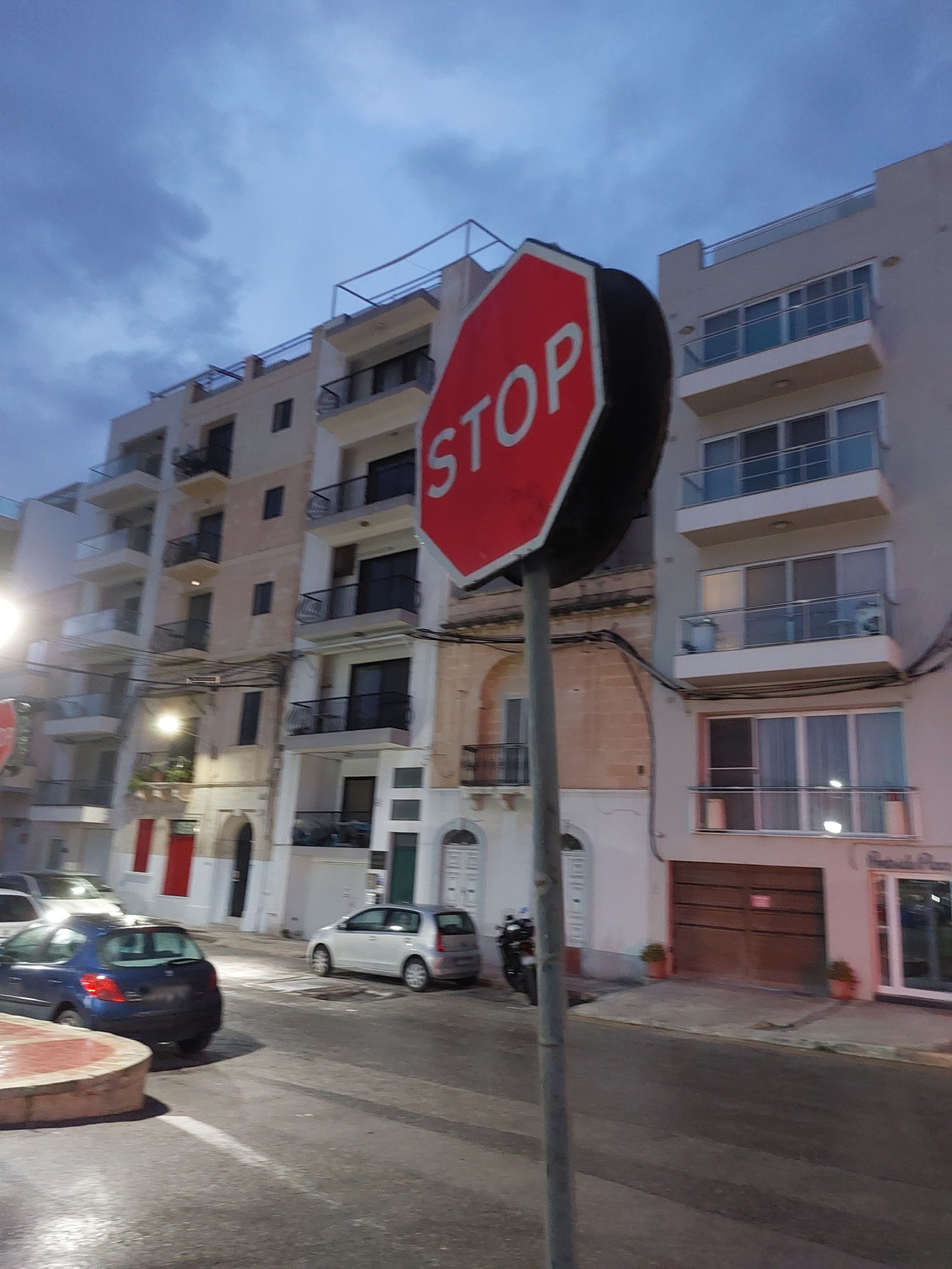Back-Unknown: (503, 267, 672, 591)
Stop Sign: (414, 237, 606, 592), (0, 699, 16, 769)
Tourist Sign: (191, 677, 216, 682)
